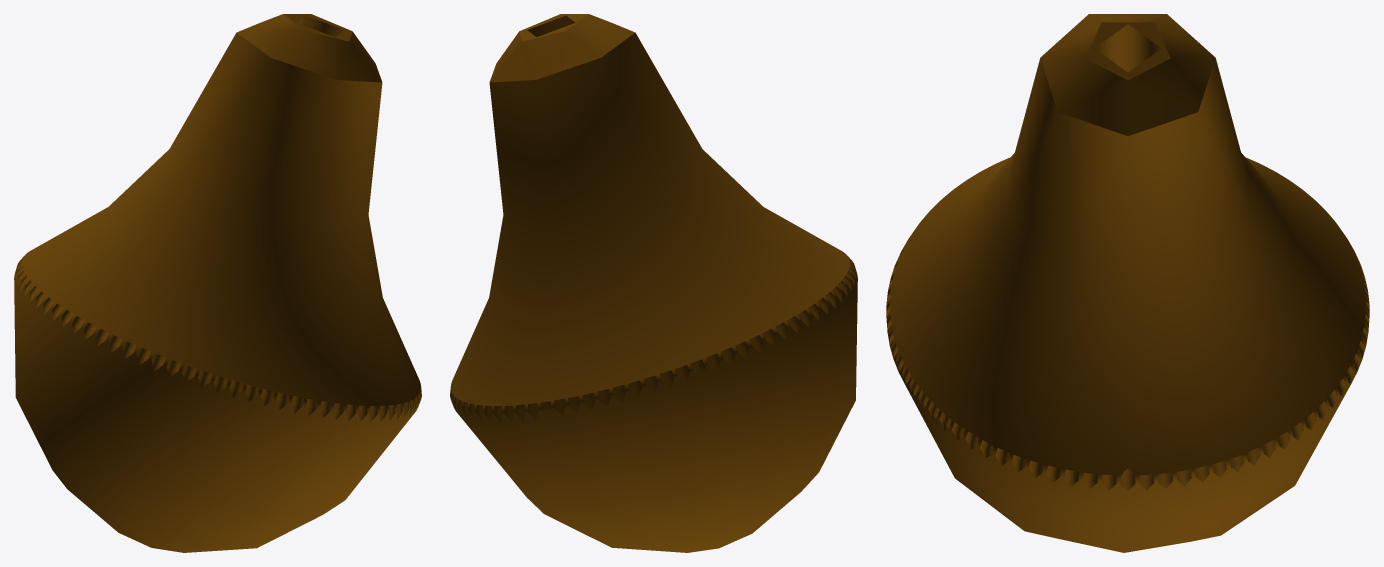
File: Poid petite detente_Quarts.obj
The picture shows the model from 3 angles, left to right: view 1: azimuth 30°, elevation 25°; view 2: azimuth 150°, elevation 25°; view 3: azimuth 270°, elevation 25°; orthographic projection. The views are drawn at different scales.
Visible parts, largest first — view 1: Face_2, Face_83, Face_81, Face_82; view 2: Face_2, Face_83, Face_81, Face_82; view 3: Face_2, Face_83, Face_81, Face_82, Face_166.
Boxes of the visible parts, left/top/right/bottom form: Face_2: left=22, top=32, right=420, bottom=405; Face_83: left=14, top=269, right=420, bottom=552; Face_81: left=237, top=14, right=382, bottom=82; Face_82: left=283, top=14, right=352, bottom=41; Face_2: left=451, top=32, right=849, bottom=405; Face_83: left=451, top=269, right=857, bottom=552; Face_81: left=489, top=14, right=634, bottom=82; Face_82: left=519, top=14, right=588, bottom=41; Face_2: left=890, top=58, right=1365, bottom=475; Face_83: left=887, top=331, right=1368, bottom=552; Face_81: left=1040, top=14, right=1215, bottom=135; Face_82: left=1085, top=22, right=1170, bottom=80; Face_166: left=1094, top=24, right=1161, bottom=72.
Size of the model in its own units: 0.0205 by 0.0275 by 0.0215.
